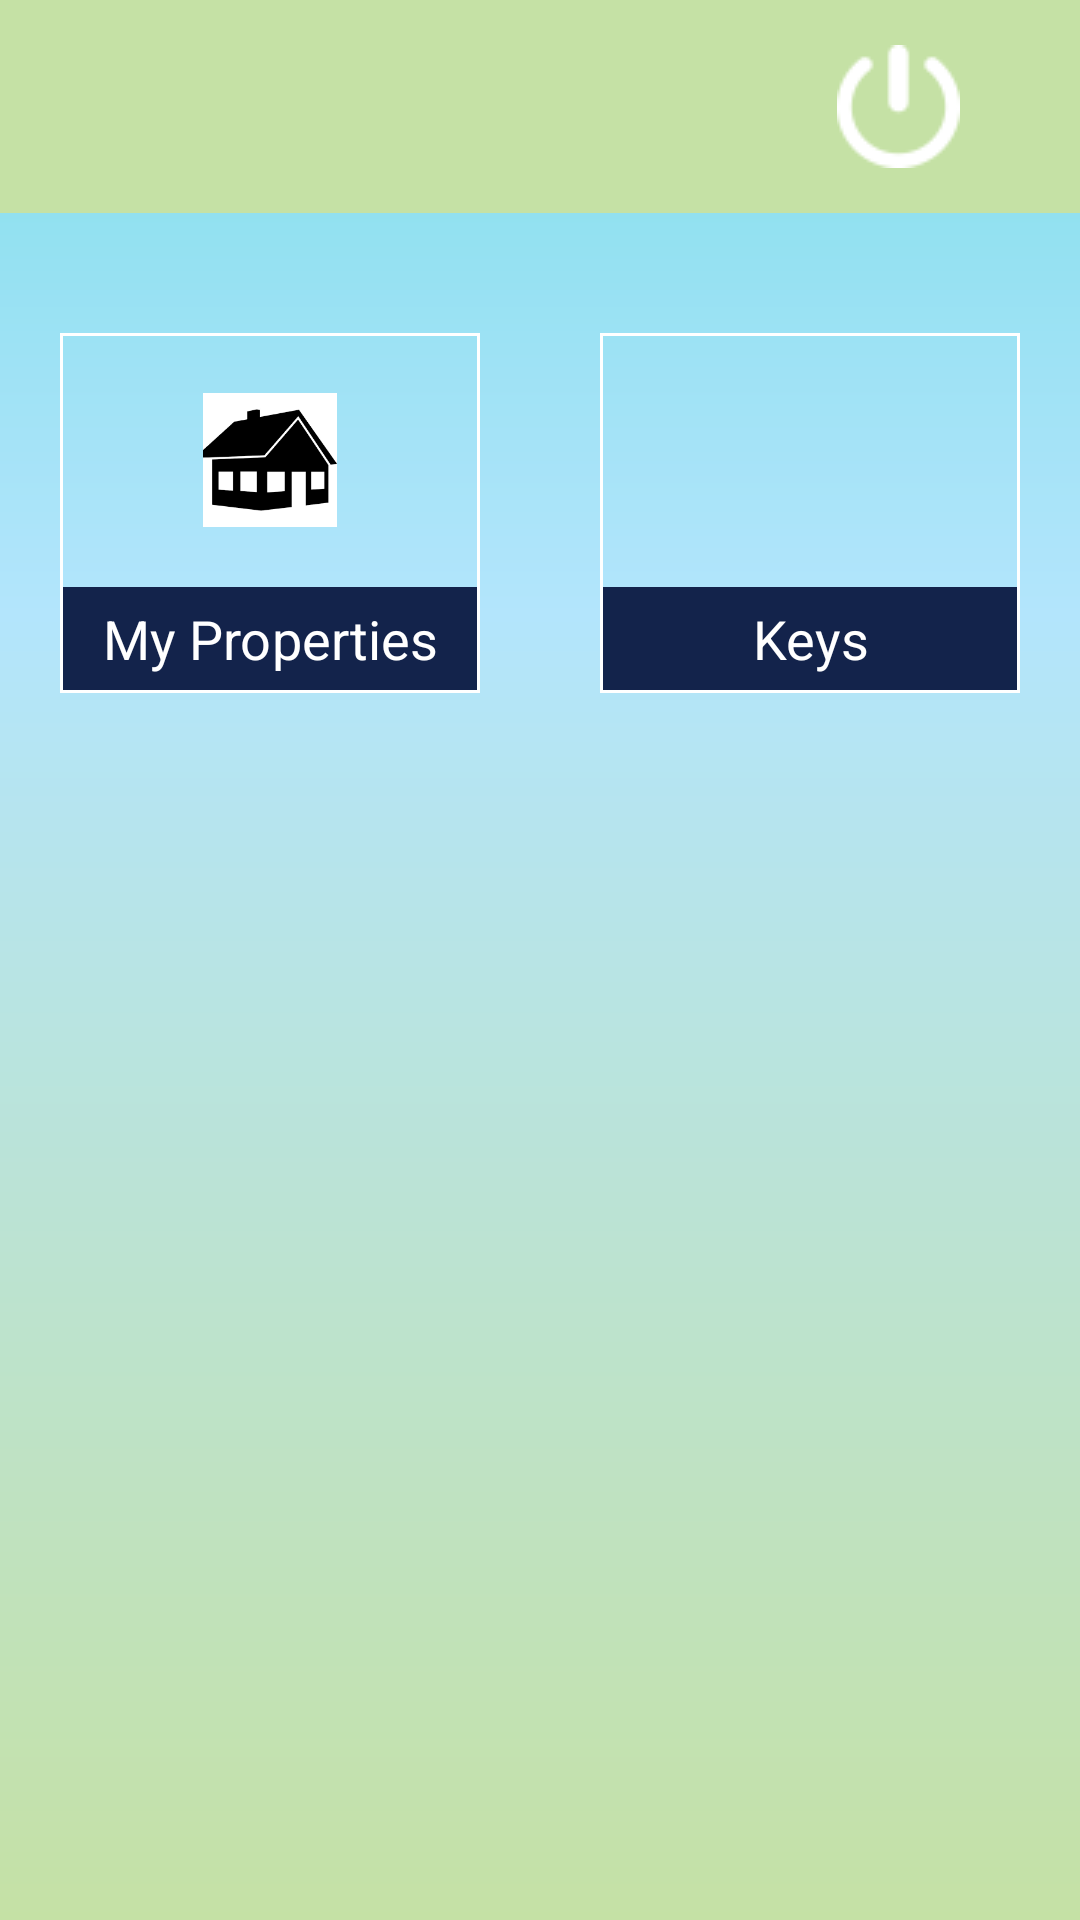

Where to tap for icons on this 1080*1920 app screen, as [x,y]:
property: [270,460]
